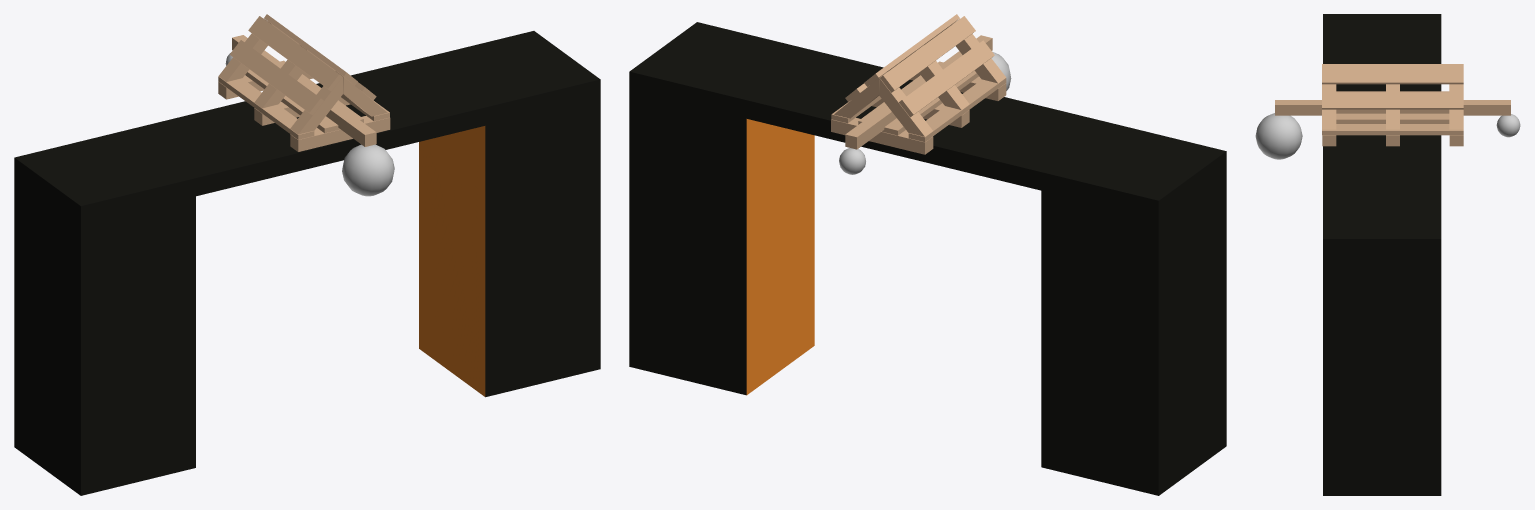
File: Gate-4-c.fbx
3 renders of one model, left to right at view 1: azimuth 30°, elevation 25°; view 2: azimuth 150°, elevation 25°; view 3: azimuth 270°, elevation 25°, orthographic. The views are drawn at different scales.
Parts seen in each view (by area): view 1: Gate_2; view 2: Gate_2; view 3: Gate_2.
Part boxes in pixels (<box>): Gate_2: <box>14,14,600,495</box>; Gate_2: <box>629,14,1226,495</box>; Gate_2: <box>1255,14,1520,495</box>.
Bounding box in the file's own units: 451 × 298 × 225.
